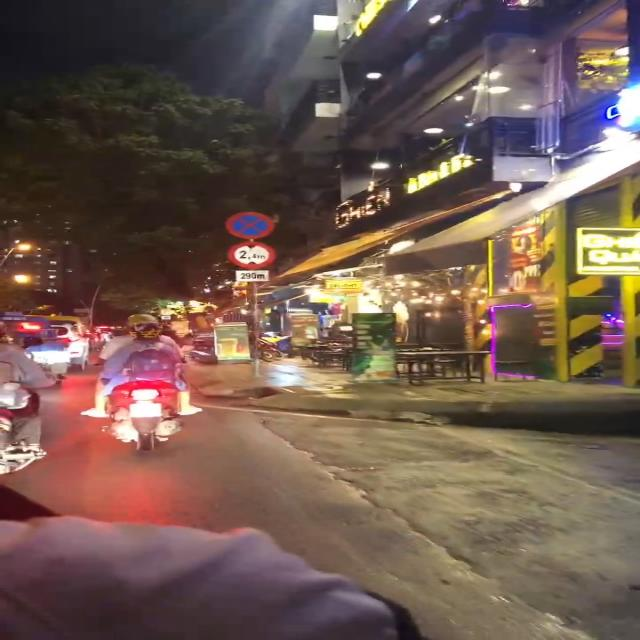Bien bao cam dung xe va do xe: (222, 208, 282, 241)
Bien bao han che chieu cao: (227, 240, 279, 272)
